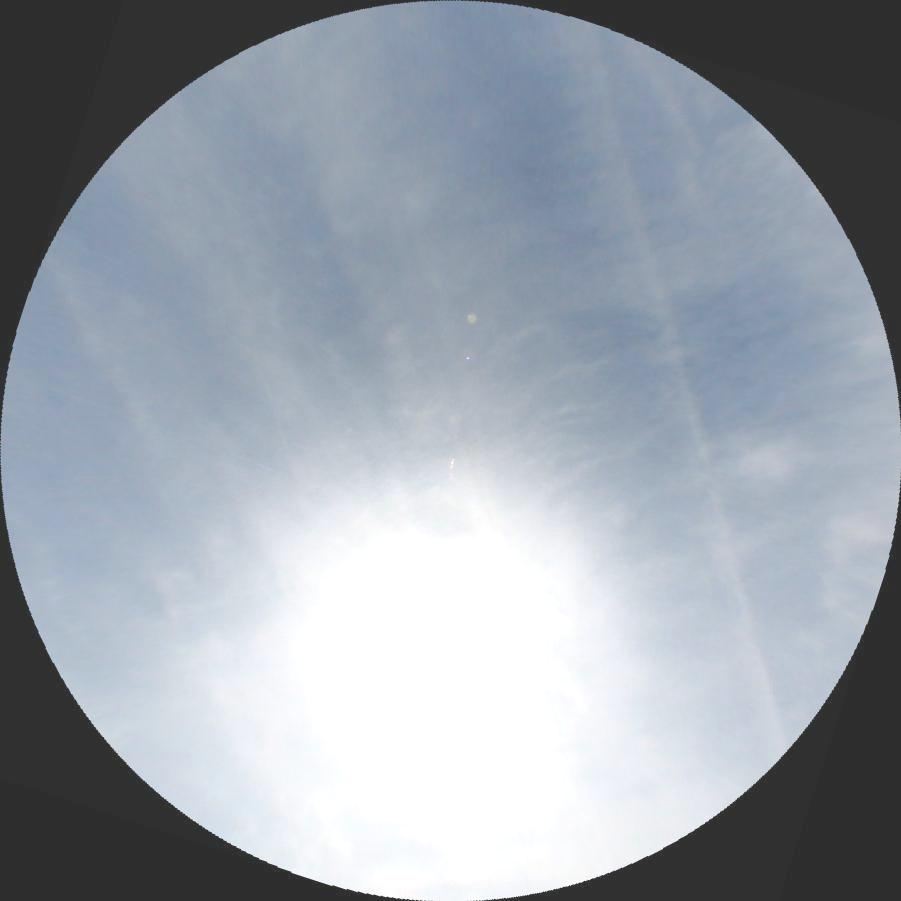contrail veryold: (548, 3, 791, 767)
sun: (344, 545, 509, 716)
